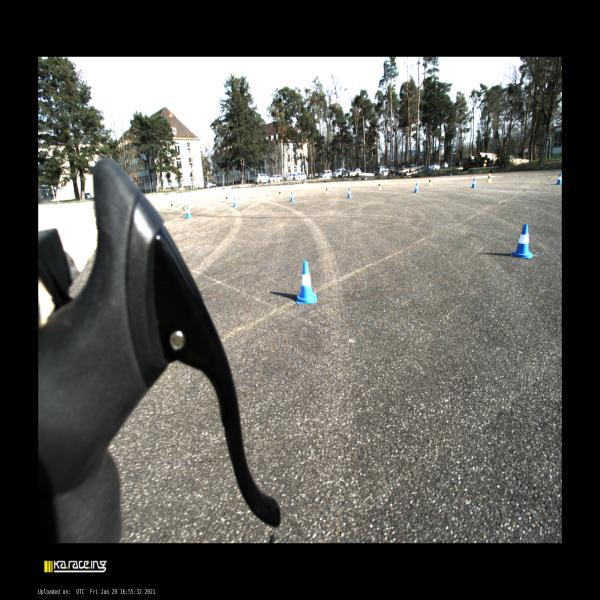blue_cone: (296, 261, 317, 304), (510, 224, 534, 259), (185, 206, 193, 218), (556, 173, 562, 185), (471, 178, 477, 188), (233, 197, 239, 207), (414, 183, 420, 192), (290, 192, 295, 201), (348, 188, 352, 198)
yellow_cone: (486, 173, 492, 182), (170, 200, 175, 210), (428, 177, 432, 186), (377, 182, 382, 189), (279, 190, 283, 198), (225, 195, 229, 202), (326, 187, 329, 194)
